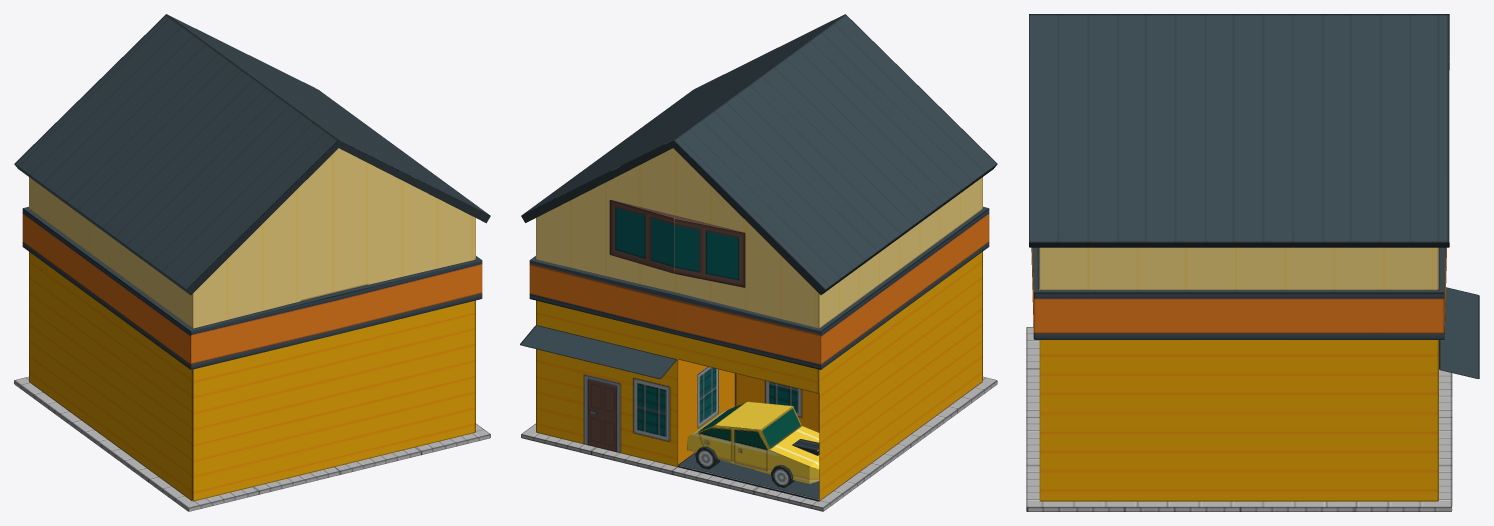
The model's file is sangenjayafixedwall.fbx.
The picture shows the model from 3 angles, left to right: view 1: azimuth 30°, elevation 25°; view 2: azimuth 150°, elevation 25°; view 3: azimuth 270°, elevation 25°; orthographic projection. The views are drawn at different scales.
Parts seen in each view (by area): view 1: group, mesh_selection, plane; view 2: group, mesh_selection, group3, plane; view 3: group, plane.
Part boxes in pixels (x1,y1,x2,y2): group: (14, 14, 490, 501); mesh_selection: (29, 274, 192, 500); plane: (14, 376, 490, 511); group: (520, 14, 997, 501); mesh_selection: (819, 274, 982, 501); group3: (687, 401, 819, 487); plane: (521, 376, 997, 511); group: (1029, 14, 1479, 501); plane: (1026, 327, 1452, 511).
Size of the model in its own units: 1007 by 1056 by 1065.
1 material, 1 textured.
